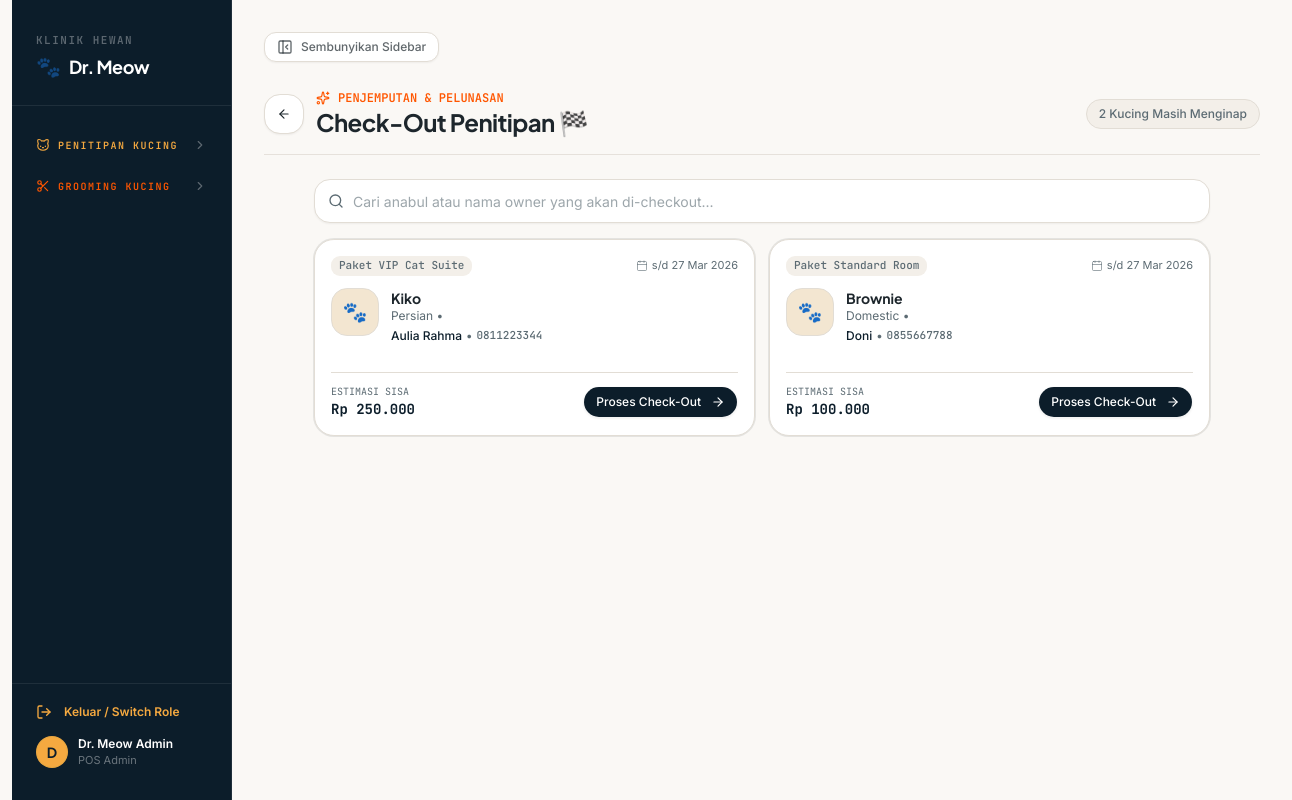
it: src/pages/pos/CheckOut.tsx - Component Tests › selects an active booking and loads checkout calculation details
This screenshot has width=1292, height=800.
Click the heading "Kiko" at (406, 298), box 391,289 -> 421,307
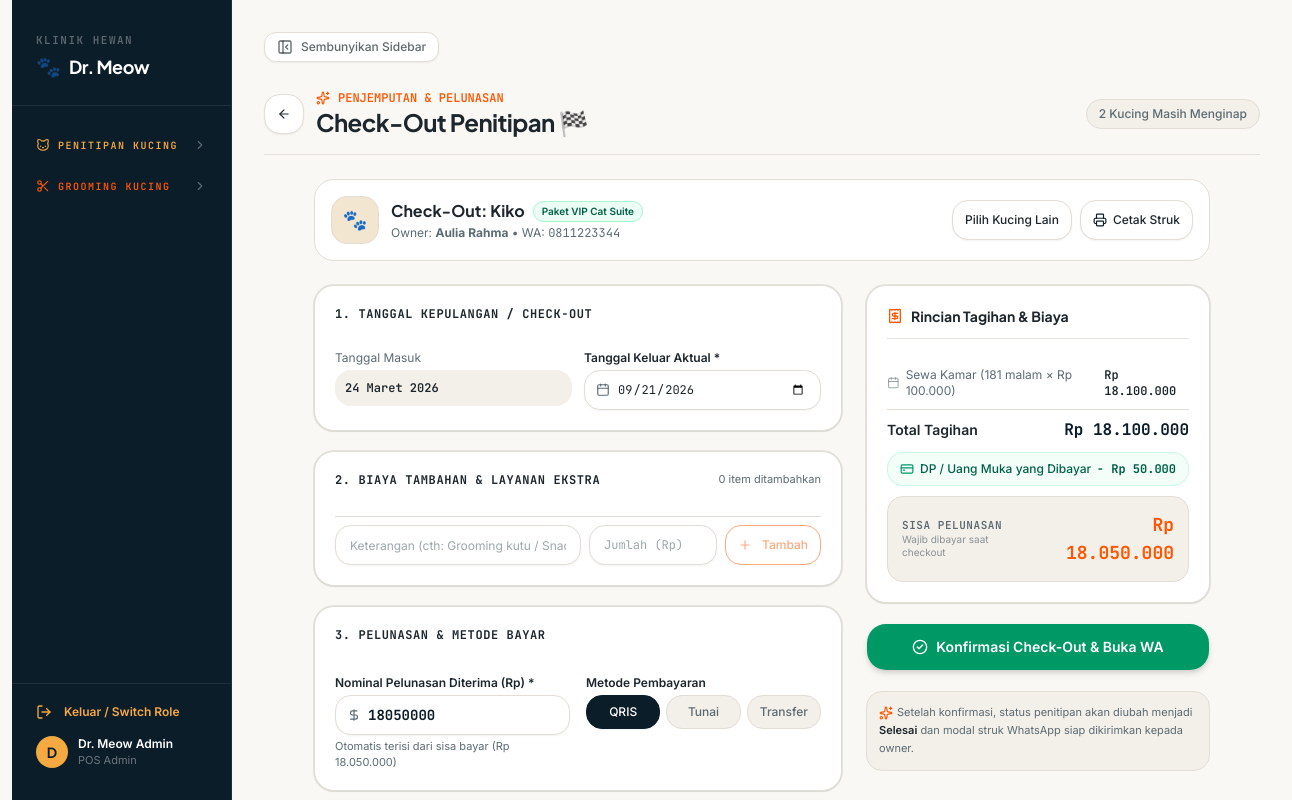
Expected: the heading "Check-Out: Kiko" is shown, 391,199 -> 525,223
Expected: the button "Pilih Kucing Lain" is shown, 952,200 -> 1072,240
Expected: the heading "Rincian Tagihan & Biaya" is shown, 911,306 -> 1069,326
